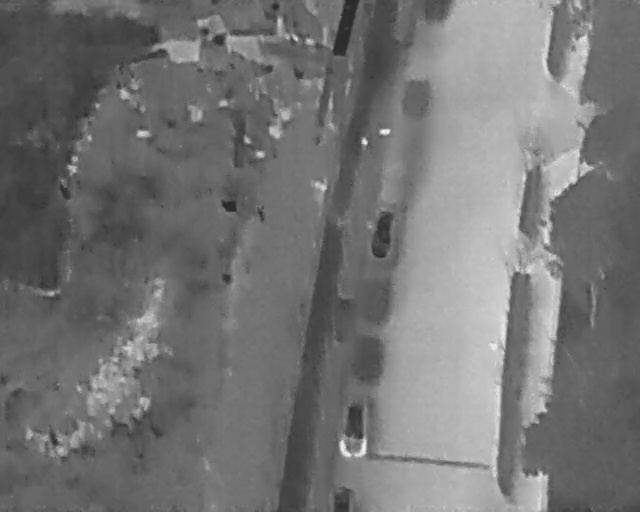Car: (338, 399, 370, 460), (368, 207, 396, 260), (330, 485, 353, 512)
Person: (361, 136, 368, 151)
